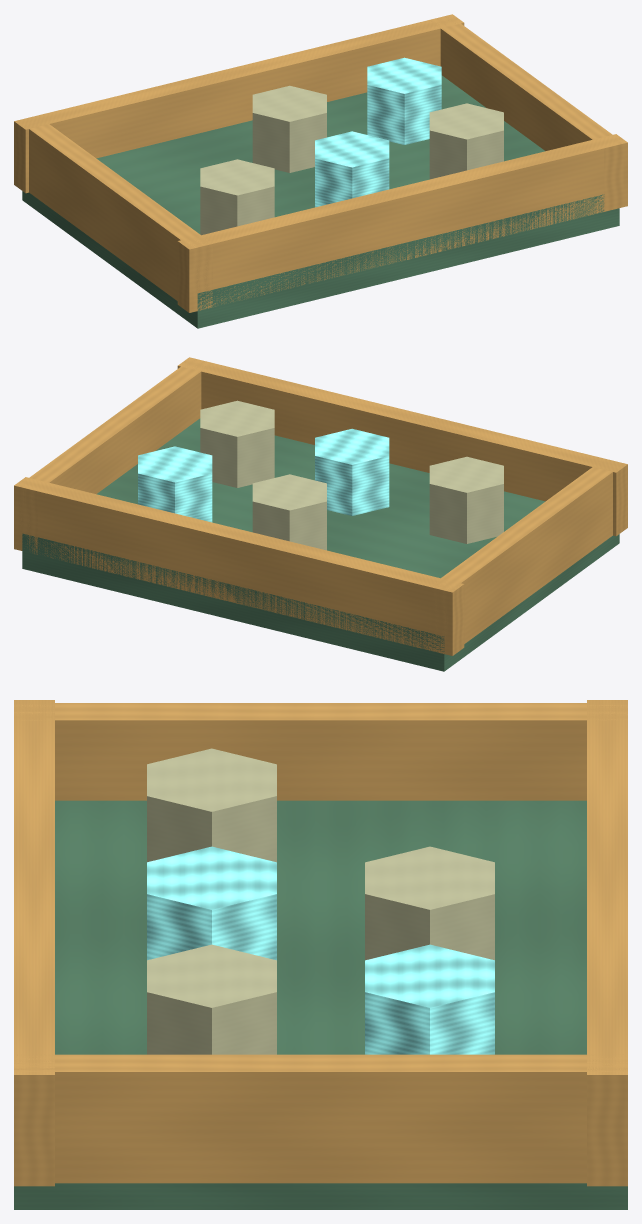
File: atlas100-s001-a03.lod1.glb
The picture shows the model from 3 angles, top to bottom: view 1: azimuth 30°, elevation 25°; view 2: azimuth 150°, elevation 25°; view 3: azimuth 270°, elevation 25°; orthographic projection. The views are drawn at different scales.
Visible parts, largest first — view 1: atlas100-s001-a03:part-000, atlas100-s001-a03:part-002, atlas100-s001-a03:part-001, atlas100-s001-a03:part-003, atlas100-s001-a03:part-004, atlas100-s001-a03:part-007, atlas100-s001-a03:part-006, atlas100-s001-a03:part-010, atlas100-s001-a03:part-008, atlas100-s001-a03:part-009; view 2: atlas100-s001-a03:part-001, atlas100-s001-a03:part-000, atlas100-s001-a03:part-002, atlas100-s001-a03:part-003, atlas100-s001-a03:part-004, atlas100-s001-a03:part-008, atlas100-s001-a03:part-009, atlas100-s001-a03:part-010, atlas100-s001-a03:part-007, atlas100-s001-a03:part-006; view 3: atlas100-s001-a03:part-000, atlas100-s001-a03:part-004, atlas100-s001-a03:part-003, atlas100-s001-a03:part-001, atlas100-s001-a03:part-002, atlas100-s001-a03:part-007, atlas100-s001-a03:part-010, atlas100-s001-a03:part-008, atlas100-s001-a03:part-006, atlas100-s001-a03:part-009.
Boxes of the visible parts, left/top/right/bottom form: atlas100-s001-a03:part-000: left=22, top=75, right=619, bottom=328; atlas100-s001-a03:part-002: left=177, top=134, right=627, bottom=312; atlas100-s001-a03:part-001: left=14, top=14, right=464, bottom=193; atlas100-s001-a03:part-003: left=29, top=124, right=212, bottom=311; atlas100-s001-a03:part-004: left=430, top=15, right=624, bottom=211; atlas100-s001-a03:part-007: left=367, top=57, right=441, bottom=144; atlas100-s001-a03:part-006: left=252, top=85, right=326, bottom=172; atlas100-s001-a03:part-010: left=429, top=103, right=503, bottom=179; atlas100-s001-a03:part-008: left=200, top=159, right=274, bottom=235; atlas100-s001-a03:part-009: left=315, top=131, right=389, bottom=207; atlas100-s001-a03:part-001: left=14, top=477, right=464, bottom=655; atlas100-s001-a03:part-000: left=22, top=418, right=619, bottom=671; atlas100-s001-a03:part-002: left=177, top=357, right=627, bottom=536; atlas100-s001-a03:part-003: left=429, top=467, right=612, bottom=654; atlas100-s001-a03:part-004: left=17, top=358, right=211, bottom=554; atlas100-s001-a03:part-008: left=429, top=456, right=503, bottom=543; atlas100-s001-a03:part-009: left=315, top=428, right=389, bottom=515; atlas100-s001-a03:part-010: left=200, top=400, right=274, bottom=487; atlas100-s001-a03:part-007: left=138, top=446, right=212, bottom=522; atlas100-s001-a03:part-006: left=252, top=474, right=326, bottom=550; atlas100-s001-a03:part-000: left=14, top=800, right=627, bottom=1209; atlas100-s001-a03:part-004: left=14, top=1054, right=627, bottom=1183; atlas100-s001-a03:part-003: left=14, top=703, right=627, bottom=800; atlas100-s001-a03:part-001: left=587, top=700, right=627, bottom=1186; atlas100-s001-a03:part-002: left=14, top=700, right=54, bottom=1186; atlas100-s001-a03:part-007: left=365, top=944, right=494, bottom=1054; atlas100-s001-a03:part-010: left=147, top=944, right=276, bottom=1054; atlas100-s001-a03:part-008: left=147, top=748, right=276, bottom=862; atlas100-s001-a03:part-006: left=365, top=846, right=494, bottom=960; atlas100-s001-a03:part-009: left=147, top=846, right=276, bottom=960.
Bounding box in the file's own units: 1.36 × 0.2563 × 0.9414.
Materials: 4 (4 with a texture image).
